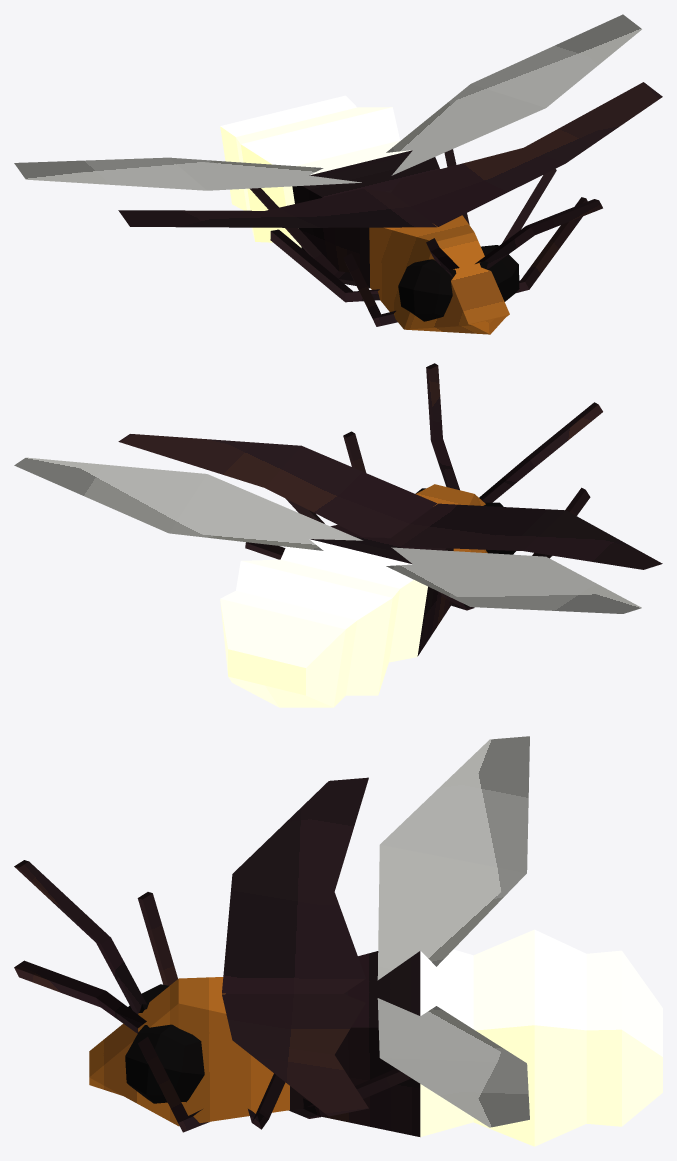
File: firefly.glb
3 views of the same model, one above another, from view 1: azimuth 30°, elevation 25°; view 2: azimuth 150°, elevation 25°; view 3: azimuth 270°, elevation 25° (orthographic). The views are drawn at different scales.
Parts seen in each view (by area): view 1: Firefly; view 2: Firefly; view 3: Firefly.
Boxes of the visible parts, x1,y1,x2,y2 form: Firefly: [14, 14, 662, 334]; Firefly: [14, 363, 662, 707]; Firefly: [14, 736, 662, 1146].
Bounding box in the file's own units: 0.04 × 0.0103 × 0.0283.
2 materials, 1 textured.
